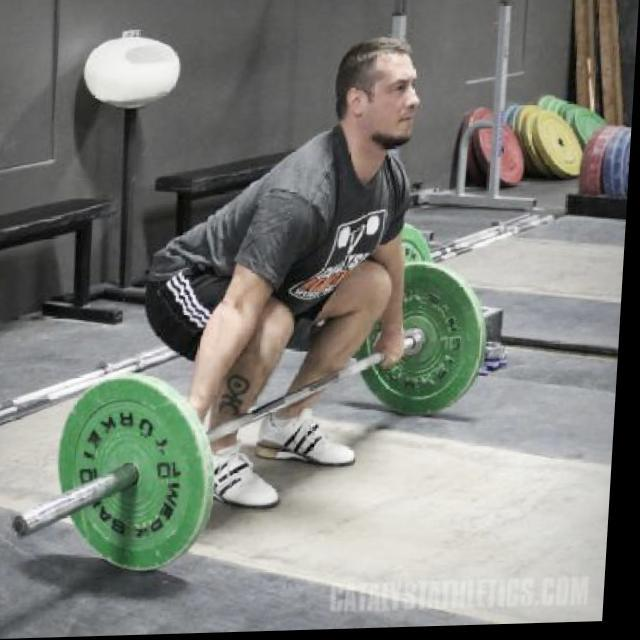barbell: (11, 372, 222, 578)
